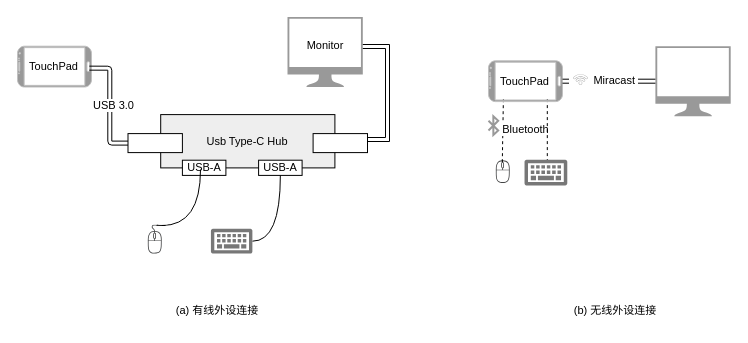
Some shapes in this 748 by 343 pixel diagram are drawn without their labels. Each missing label, with the centre of its shape:
HDMI Out: the point at 340,143
USB-C in: the point at 154,143
Wireless Monitor: the point at 692,81
